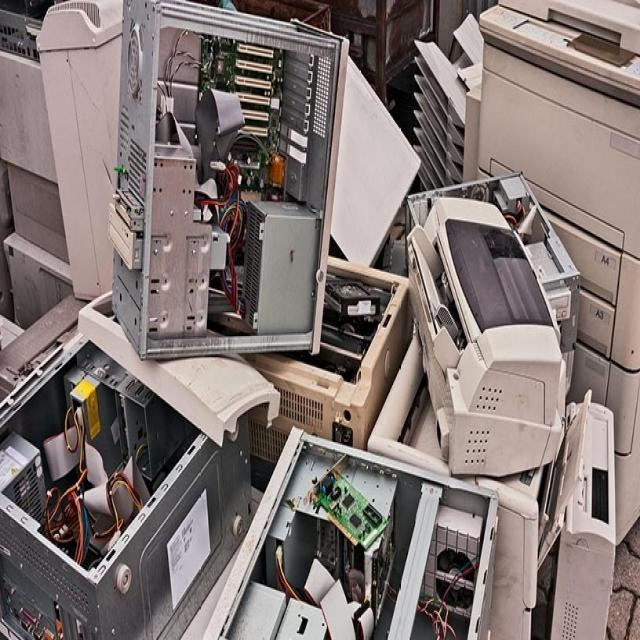hazard: (4, 3, 637, 640)
